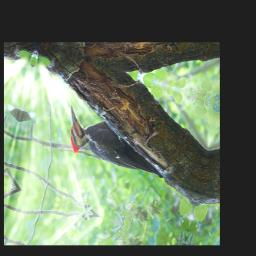Woodpecker: (60, 103, 174, 184)
